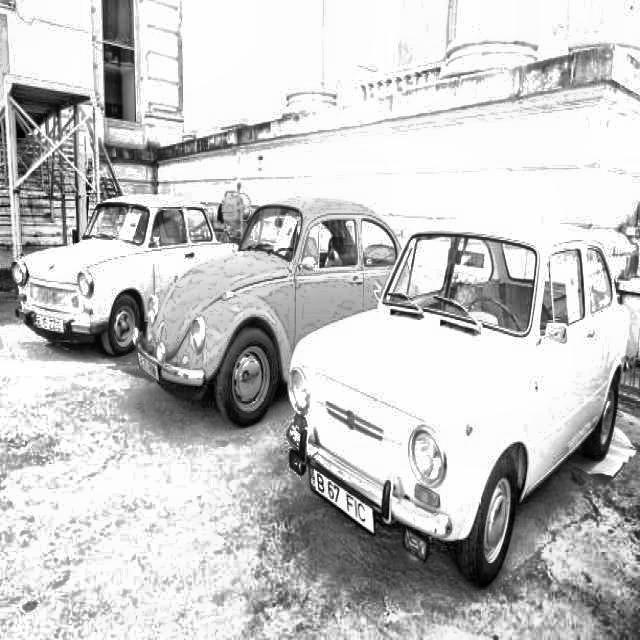carro: (297, 225, 632, 553), (138, 191, 430, 412), (13, 188, 241, 356)
